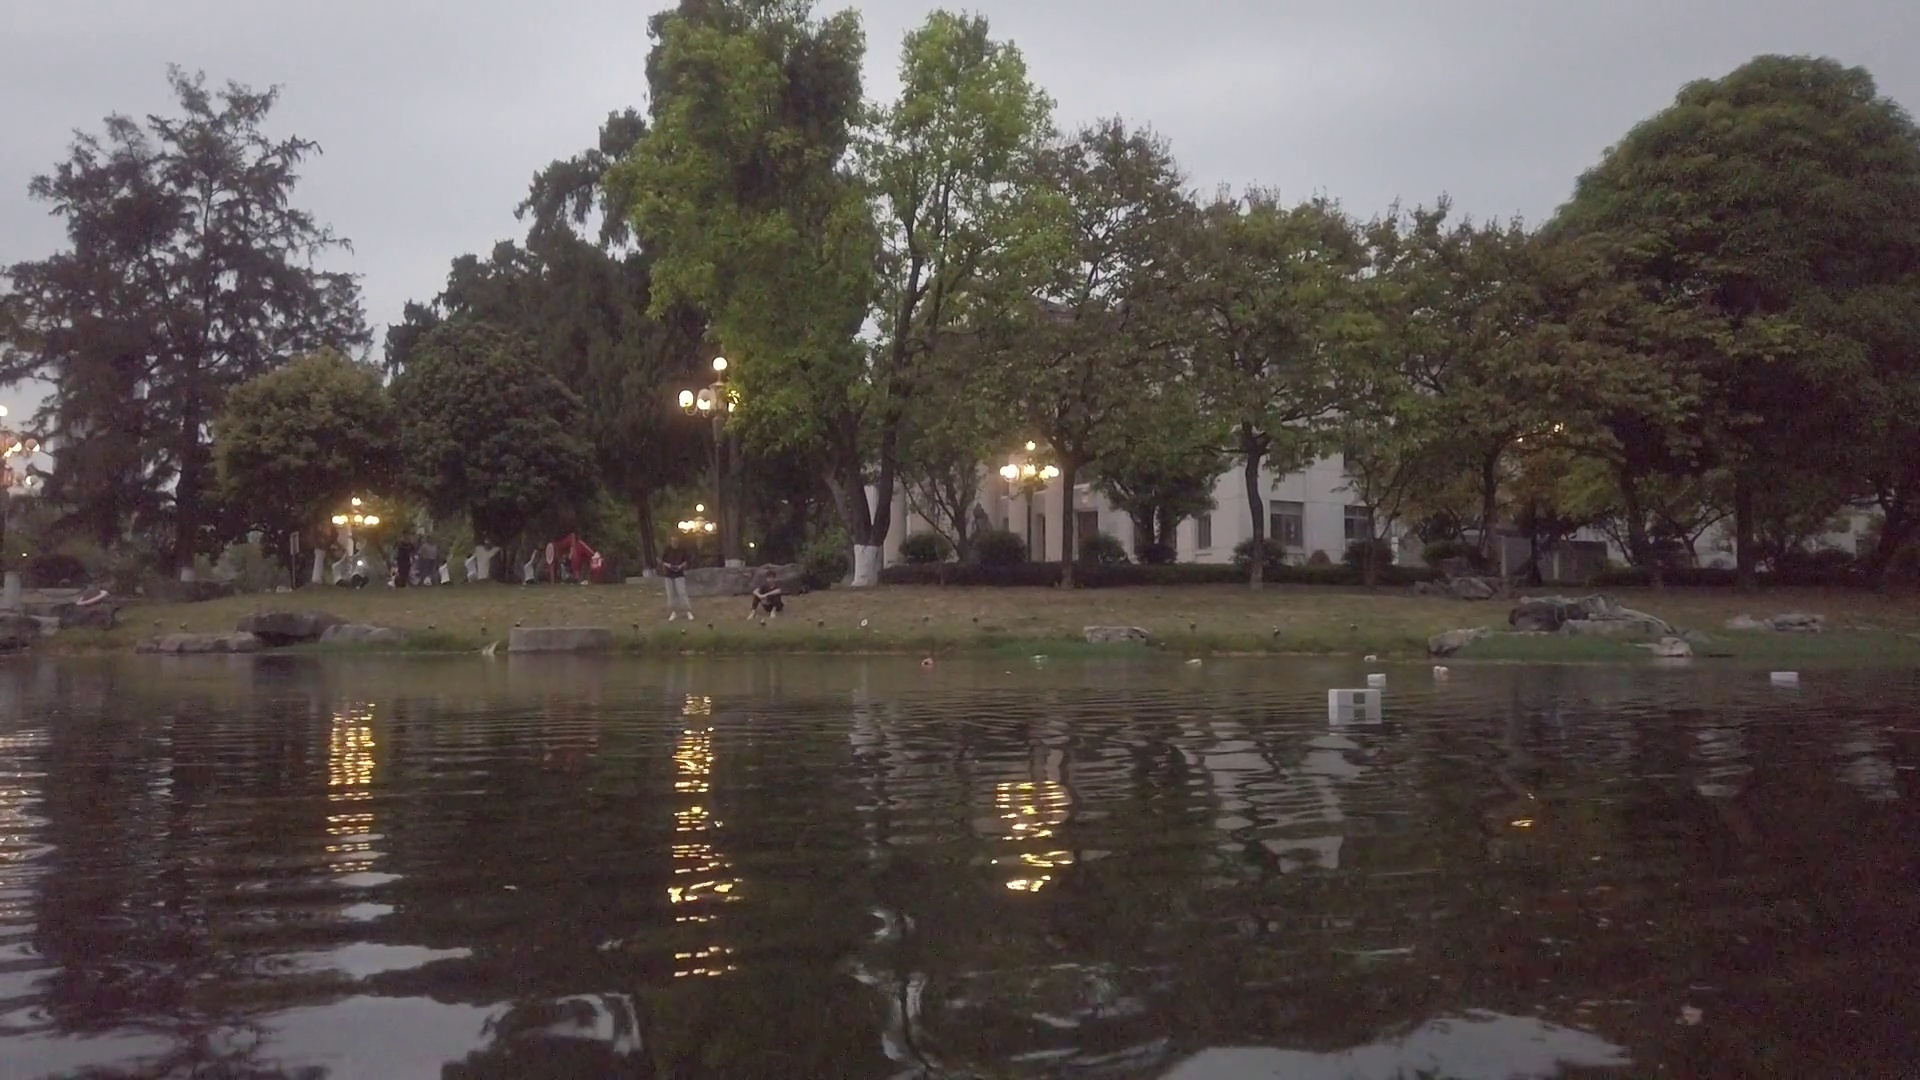bottle: (1433, 665, 1449, 675), (1366, 654, 1382, 661), (1033, 653, 1046, 661), (1185, 659, 1200, 666), (923, 657, 931, 665)
carton: (1327, 688, 1379, 709), (1771, 671, 1800, 682), (1367, 671, 1389, 684)
